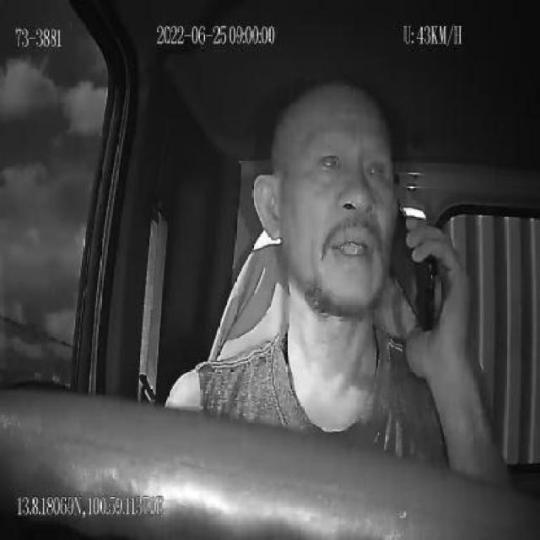phone: (388, 200, 438, 334)
